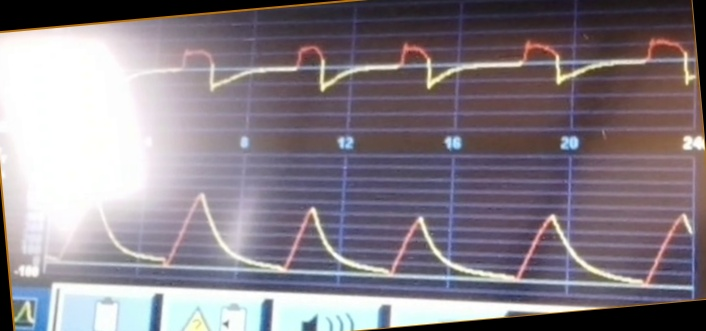Normal Flow: (126, 26, 694, 112)
Normal Volume: (48, 187, 691, 284)
